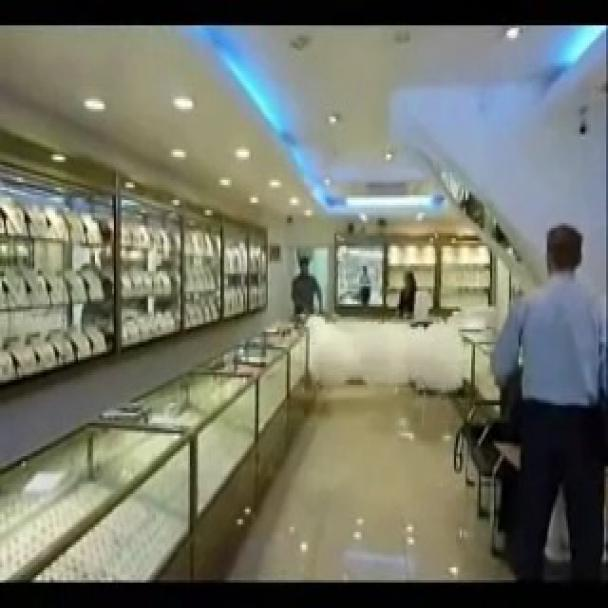smoke: (249, 268, 512, 452)
